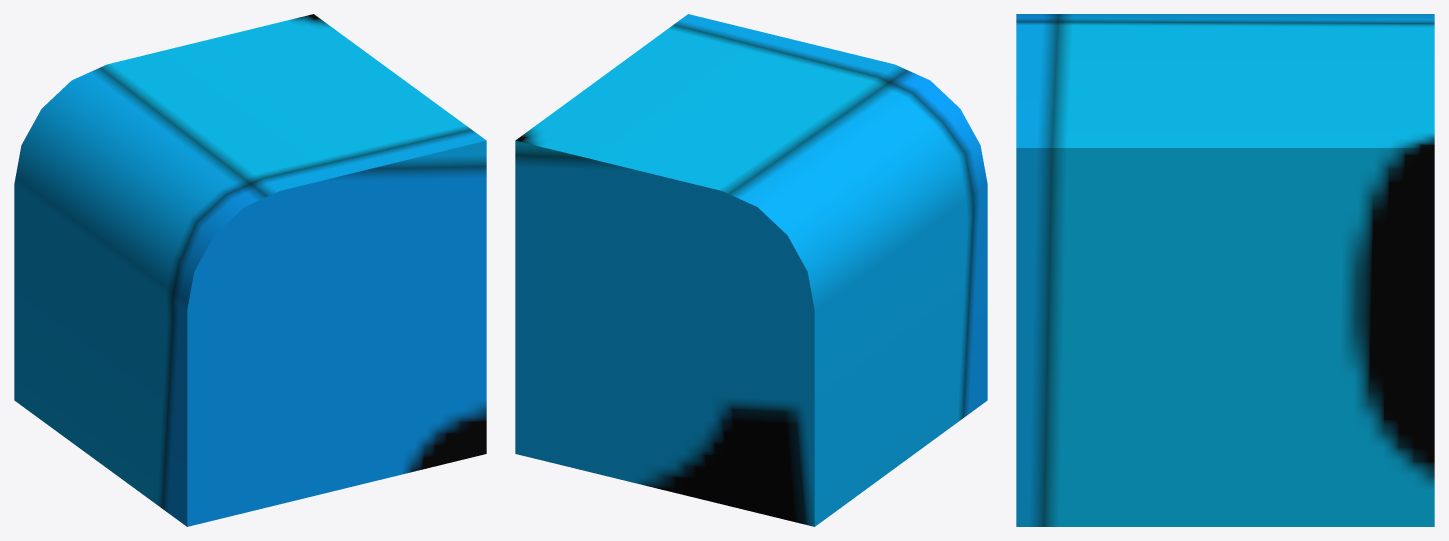
The model's file is SM_Module_1x1.fbx.
3 renders of one model, left to right at view 1: azimuth 30°, elevation 25°; view 2: azimuth 150°, elevation 25°; view 3: azimuth 270°, elevation 25°, orthographic. The views are drawn at different scales.
Parts seen in each view (by area): view 1: SM_Module_1x1; view 2: SM_Module_1x1; view 3: SM_Module_1x1.
Boxes of the visible parts, x1=… form: SM_Module_1x1: x1=14, y1=14, x2=486, y2=526; SM_Module_1x1: x1=515, y1=14, x2=987, y2=526; SM_Module_1x1: x1=1016, y1=14, x2=1434, y2=526.
Size of the model in its own units: 100 by 100 by 100.
1 material, 1 textured.
